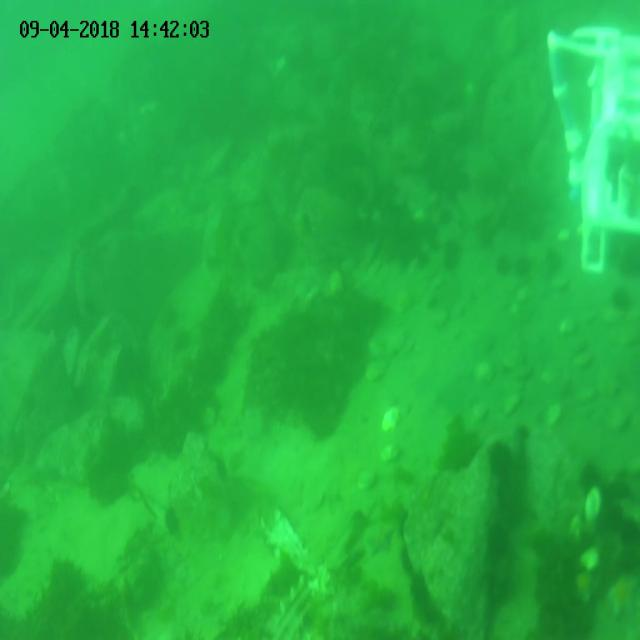echinus: (488, 444, 514, 475), (489, 526, 513, 556), (442, 243, 464, 271), (611, 286, 633, 313), (494, 252, 513, 276), (516, 257, 530, 277)
scallop: (63, 328, 82, 378), (364, 358, 389, 384), (607, 407, 631, 433), (580, 546, 604, 572), (598, 374, 620, 402), (586, 488, 603, 524), (385, 330, 408, 355), (356, 472, 382, 492), (546, 404, 566, 428), (382, 406, 402, 430), (502, 393, 523, 415), (381, 444, 404, 464), (473, 362, 494, 383), (470, 402, 489, 424)
starfish: (612, 576, 636, 617), (578, 568, 600, 602)
